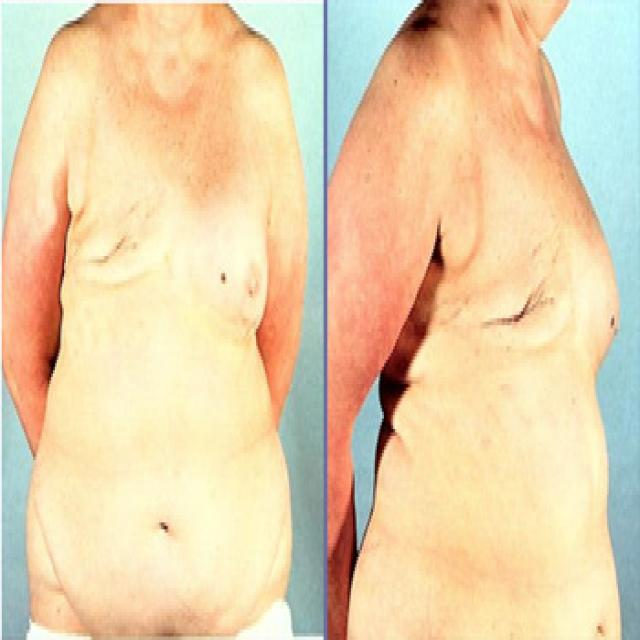Seno herido: (435, 191, 570, 371), (56, 147, 167, 322)
Seno ileso: (172, 149, 272, 354), (572, 182, 622, 384)
